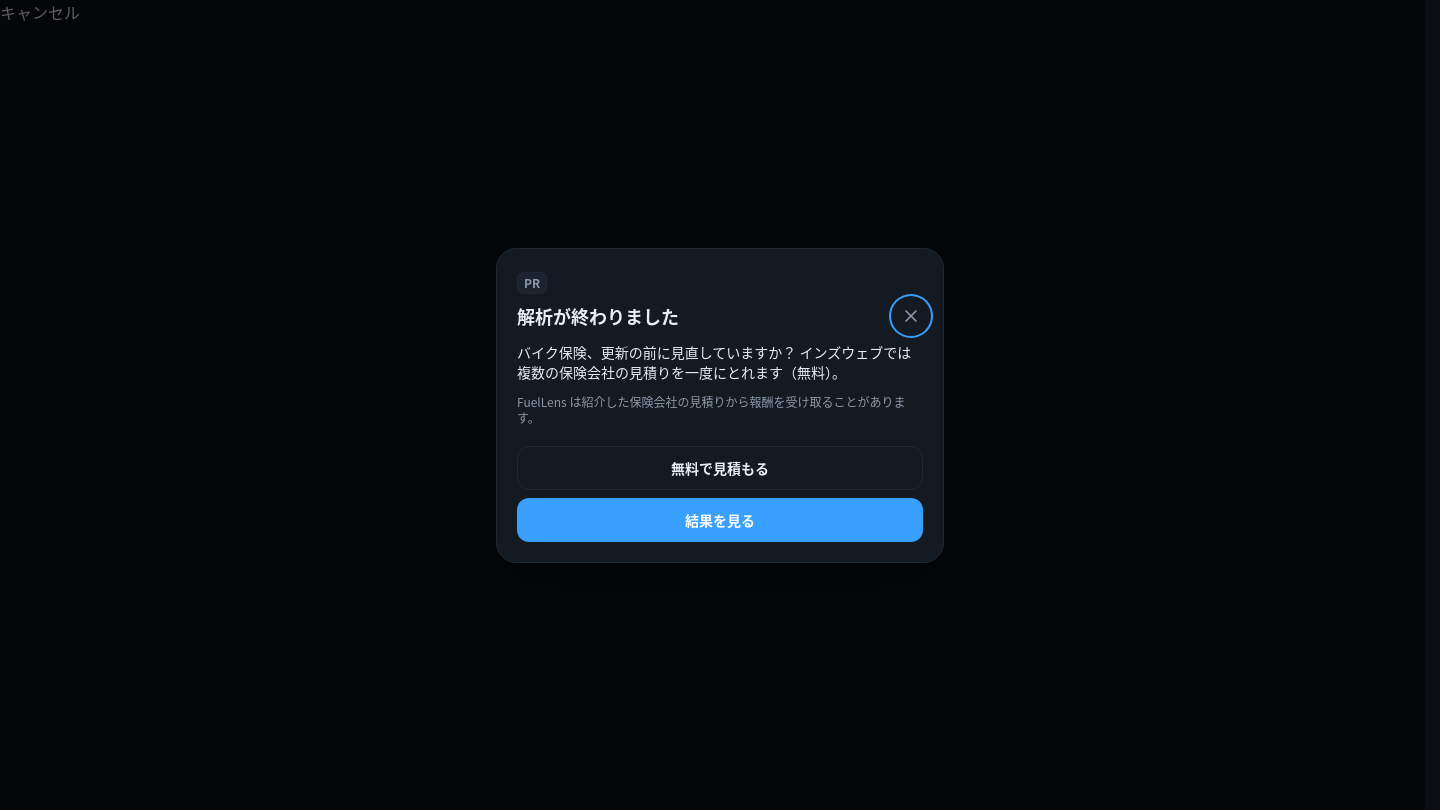
Scenario: useScanWaitPromo › 結果が届いても閉じず、見出しとボタンが切り替わる。閉じるまで確認シートは出ない
The width and height of the screenshot is (1440, 810).
Expected: the dialog "解析が終わりました" is shown, [496, 248, 944, 562]
Expected: the link "無料で見積もる" is shown, [517, 446, 923, 490]
Click the button "結果を見る". click: [720, 520]
box: [517, 498, 923, 542]
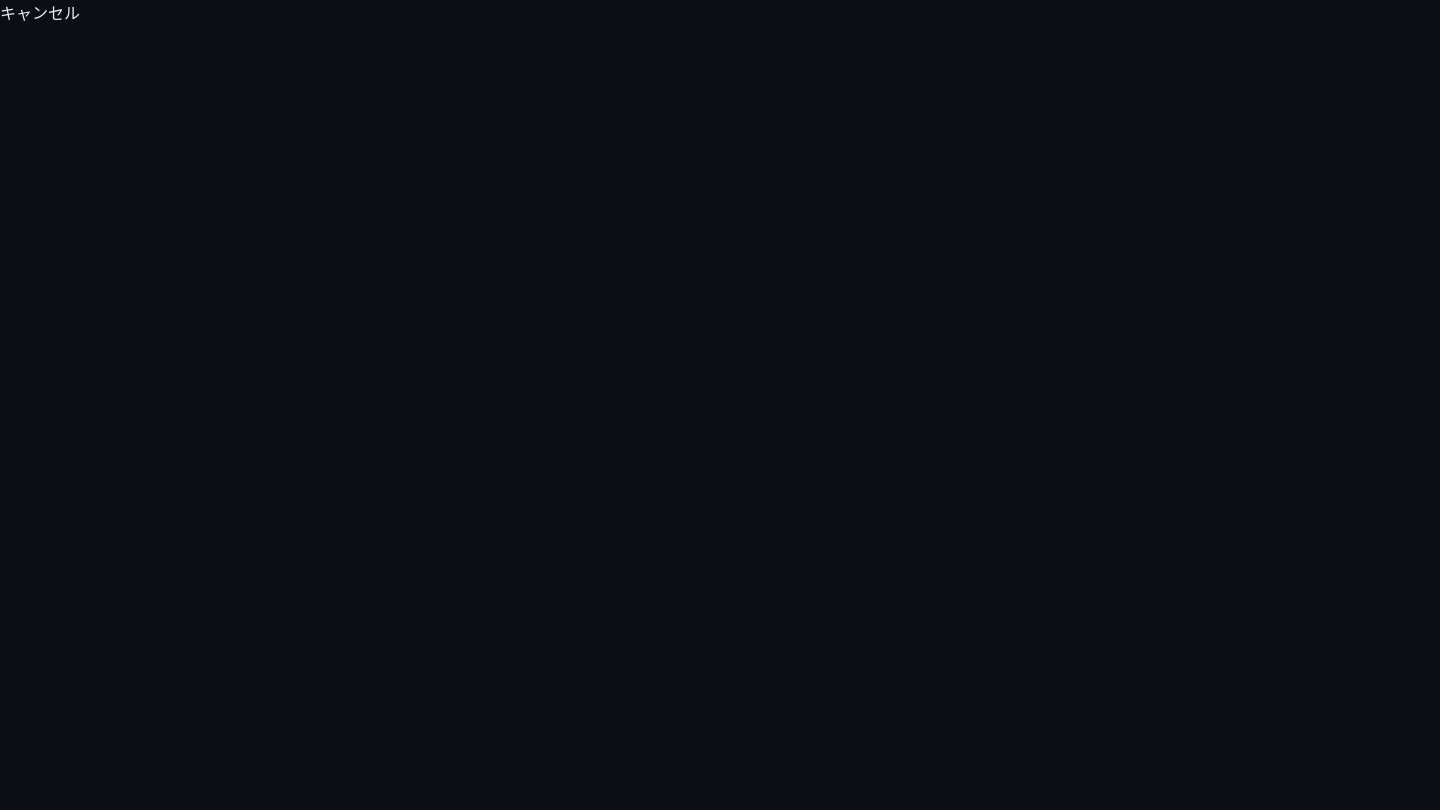
Now the dialog is gone
